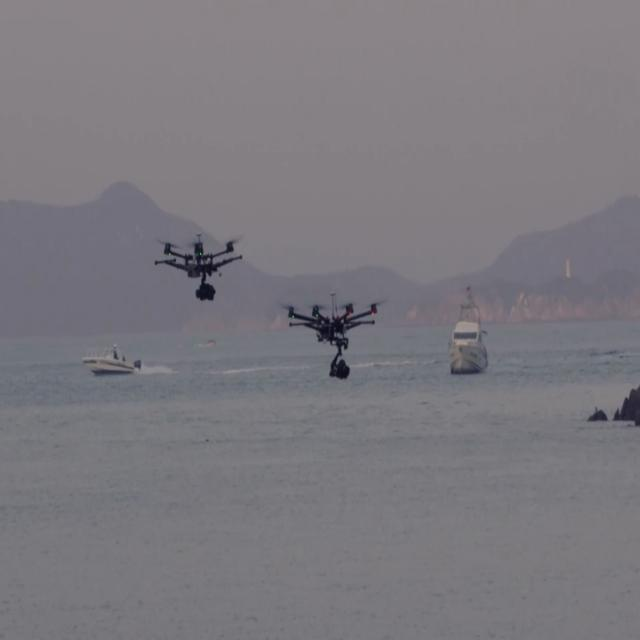drone: (280, 278, 382, 382), (168, 220, 239, 305)
